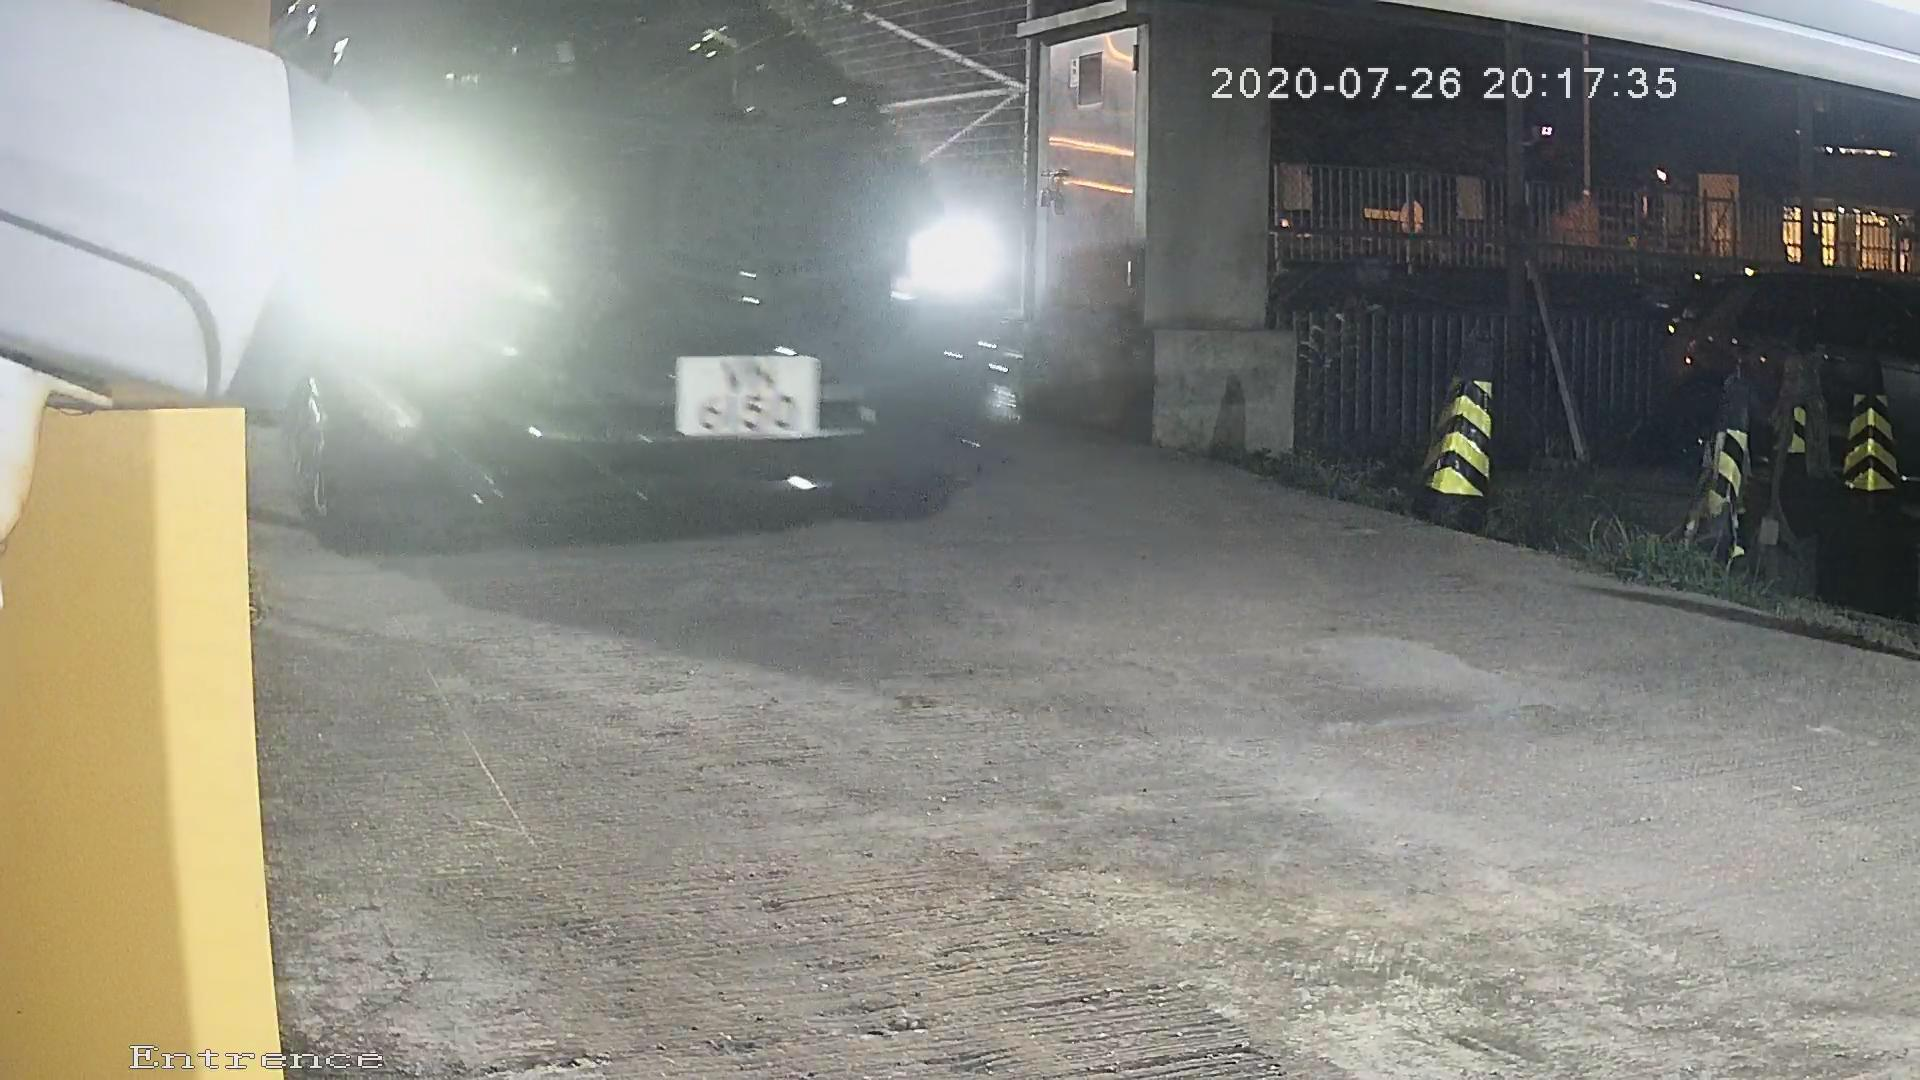License Plate: (626, 328, 832, 454)
